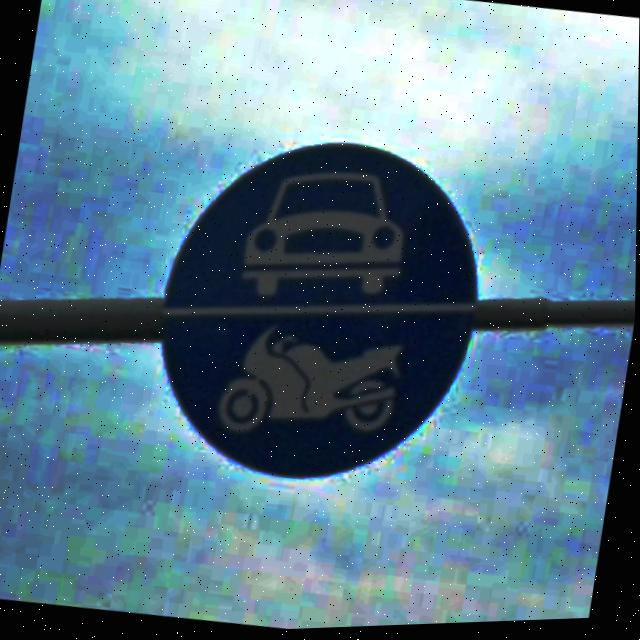carmotorcycle: (137, 116, 503, 508)
